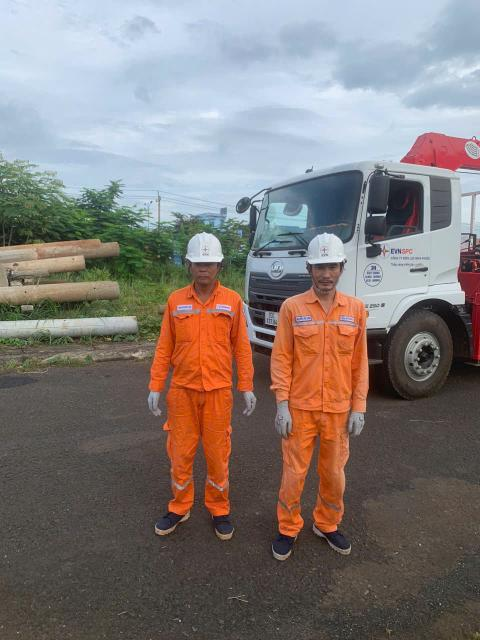gloves: (140, 383, 172, 422), (267, 401, 298, 441), (339, 408, 371, 436), (240, 391, 262, 418)
helmet: (178, 220, 233, 271), (304, 237, 348, 270)
shoes: (261, 529, 304, 566), (323, 519, 359, 562), (154, 501, 189, 539), (210, 504, 242, 545)
